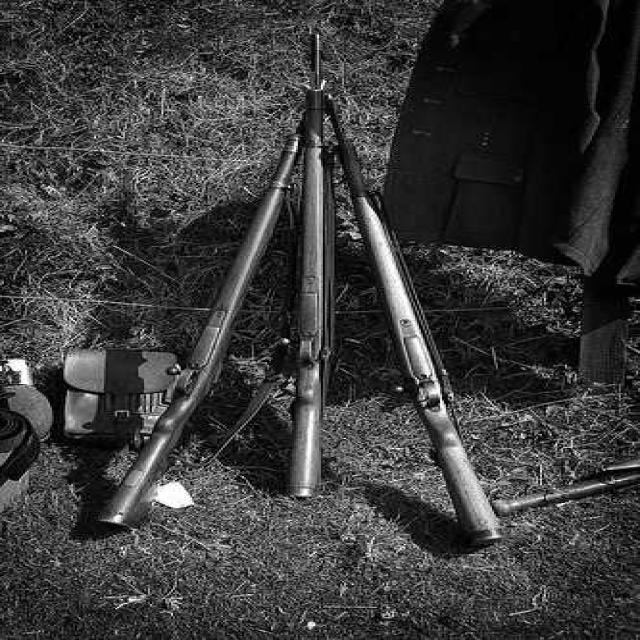heavyweapon: (253, 22, 358, 509)
